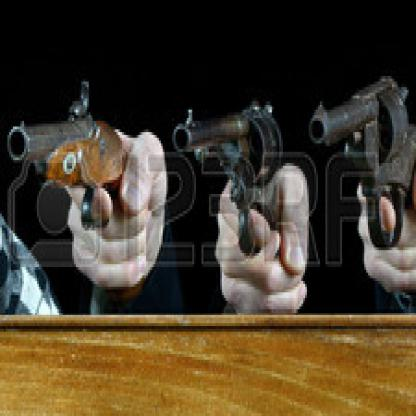gun: (0, 31, 152, 267), (174, 56, 305, 284), (311, 78, 414, 289)
